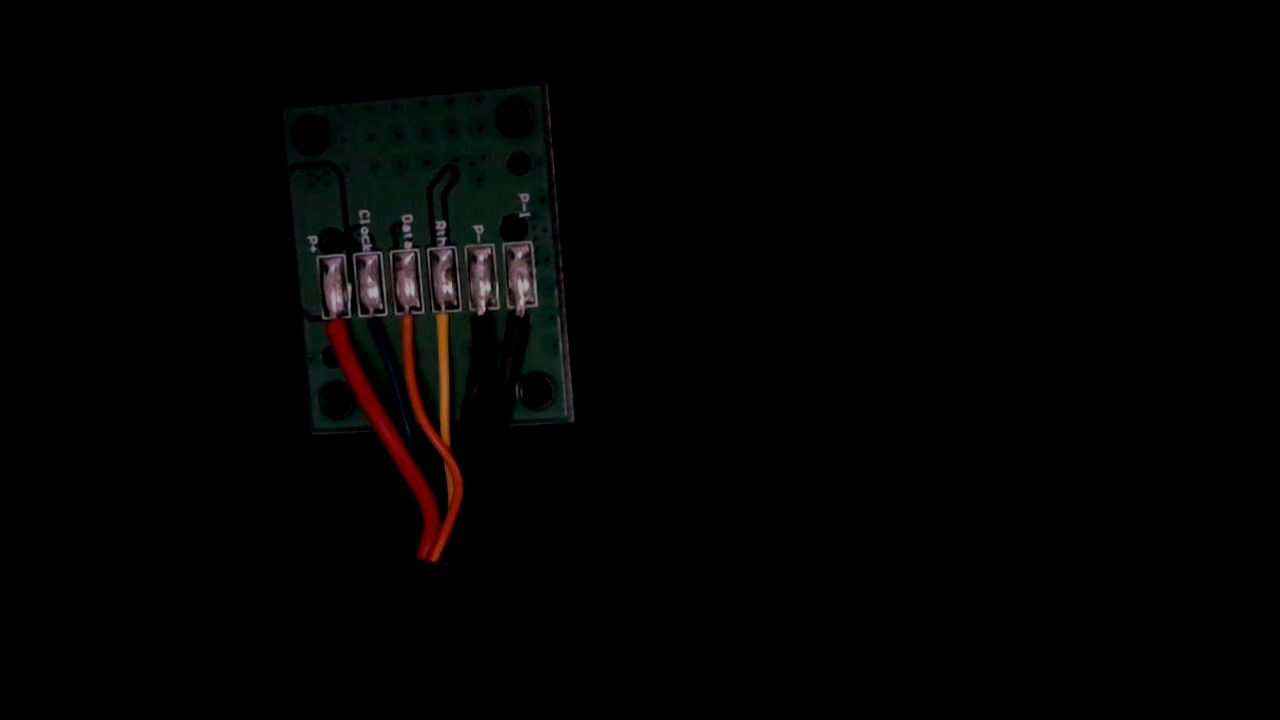Black: (468, 294, 496, 358)
Black1: (505, 294, 537, 356)
Green: (355, 303, 393, 349)
Orange: (392, 300, 424, 353)
Red: (316, 304, 355, 348)
Yellow: (430, 296, 461, 353)
